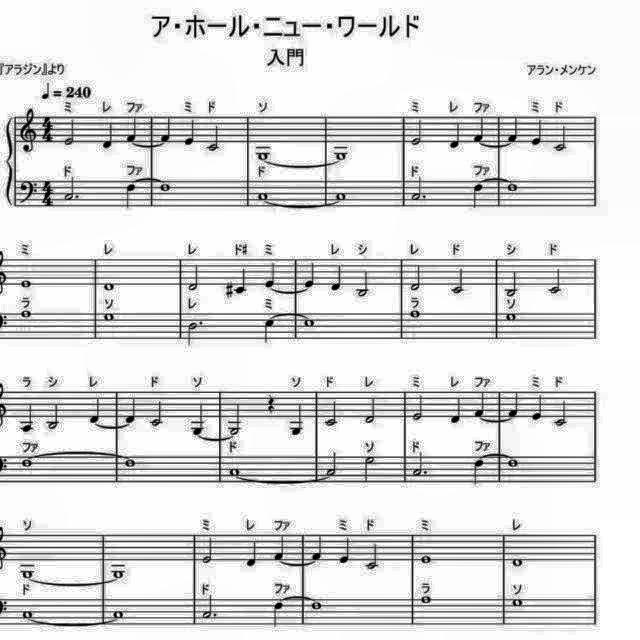Bass-clef: (16, 177, 38, 205)
Diez: (222, 279, 234, 301)
Full-note: (16, 306, 36, 322), (108, 565, 128, 581), (19, 564, 37, 580), (20, 606, 36, 622), (332, 148, 352, 160), (509, 555, 526, 569), (102, 279, 118, 293), (110, 607, 126, 621), (101, 310, 117, 324), (502, 311, 518, 325), (302, 315, 318, 329), (334, 188, 350, 202), (253, 148, 271, 160), (18, 278, 36, 290), (18, 456, 36, 468), (506, 180, 522, 193), (122, 456, 138, 469), (158, 180, 174, 192), (510, 596, 526, 608), (309, 600, 325, 612), (418, 554, 434, 566), (506, 456, 522, 468), (408, 308, 424, 320), (228, 464, 244, 476), (254, 188, 270, 200), (418, 594, 434, 606)
Half-dot: (184, 321, 206, 352), (200, 594, 220, 622), (62, 174, 82, 202), (410, 174, 428, 202), (412, 451, 428, 481)
Half-note: (224, 402, 244, 436), (546, 267, 566, 297), (185, 262, 203, 294), (552, 122, 570, 154), (449, 266, 467, 298), (43, 401, 61, 432), (325, 399, 343, 429), (553, 399, 571, 429), (363, 543, 381, 573), (147, 397, 165, 427), (408, 264, 426, 294), (205, 124, 222, 154), (353, 270, 371, 298), (502, 270, 520, 298), (410, 117, 426, 147), (62, 118, 78, 148), (201, 536, 217, 566), (360, 453, 376, 483), (362, 395, 378, 425), (411, 393, 427, 423), (326, 452, 342, 481)
Quarter-note: (286, 402, 306, 438), (18, 402, 38, 436), (190, 401, 208, 435), (233, 266, 250, 298), (262, 318, 280, 347), (528, 116, 544, 148), (338, 534, 354, 566), (448, 120, 464, 152), (100, 120, 116, 152), (506, 114, 522, 146), (330, 262, 346, 294), (473, 390, 489, 420), (88, 395, 104, 425), (244, 539, 260, 569), (264, 261, 280, 291), (303, 259, 319, 289), (160, 115, 176, 145), (507, 390, 523, 420), (310, 531, 326, 561), (271, 599, 287, 629), (124, 180, 140, 210), (472, 182, 488, 212), (470, 459, 486, 488), (272, 534, 288, 562), (472, 116, 488, 144), (124, 396, 140, 424), (530, 392, 544, 423), (450, 396, 464, 426), (183, 117, 197, 147), (126, 116, 140, 144)
Quarter-rest: (264, 392, 280, 416)
Treble-clef: (20, 108, 40, 156)
